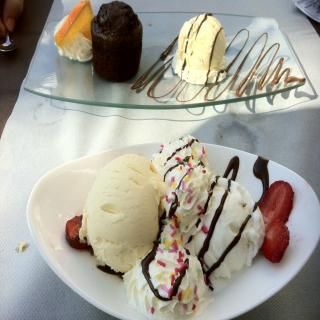Ice cream: (122, 134, 264, 320), (79, 155, 167, 274), (91, 0, 143, 84), (170, 12, 227, 82), (54, 0, 94, 62)
